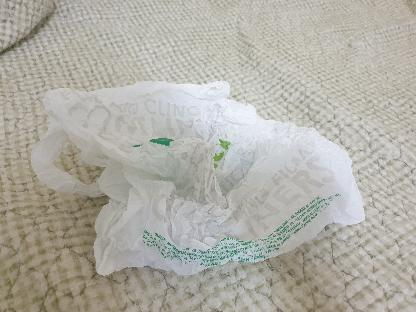Plastic Bag: (29, 78, 367, 276)
